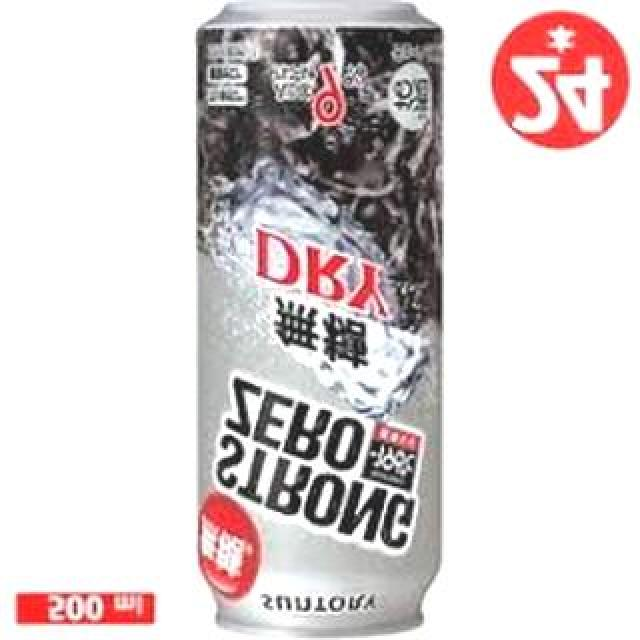Can: (189, 0, 461, 638)
